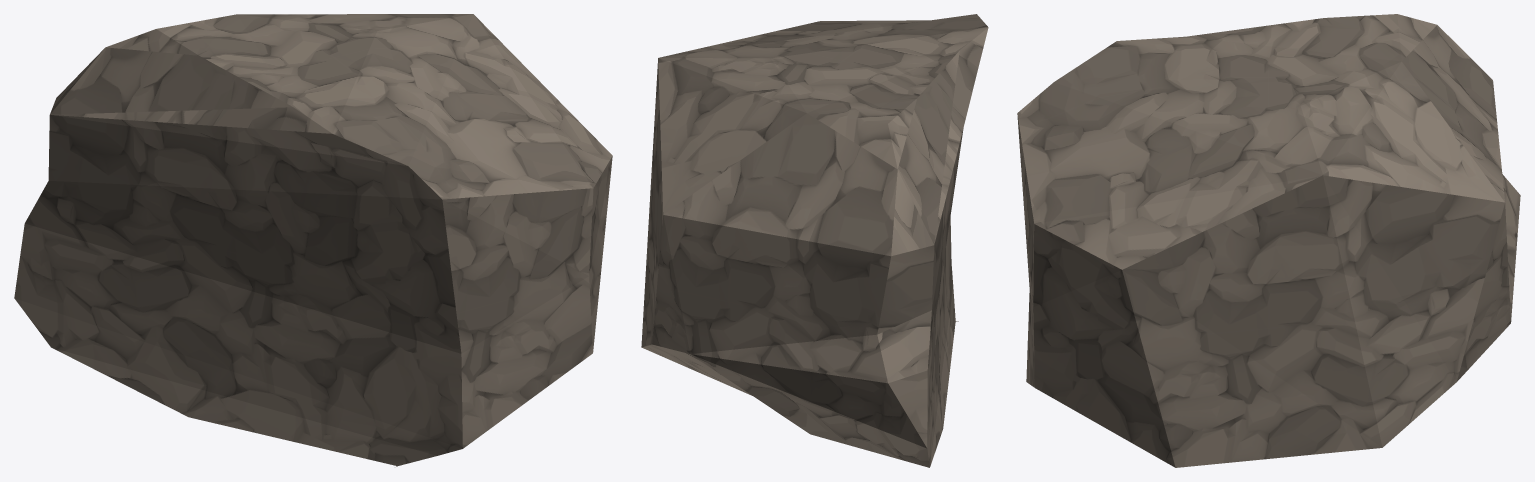
The model's file is synty-rock-01.gltf.
3 renders of one model, left to right at view 1: azimuth 30°, elevation 25°; view 2: azimuth 150°, elevation 25°; view 3: azimuth 270°, elevation 25°, orthographic. The views are drawn at different scales.
Visible parts, largest first — view 1: SM_Rock_01; view 2: SM_Rock_01; view 3: SM_Rock_01.
Part boxes in pixels (x1,y1,x2,y2): SM_Rock_01: [14, 14, 612, 466]; SM_Rock_01: [641, 14, 988, 467]; SM_Rock_01: [1017, 14, 1520, 467].
Bounding box in the file's own units: 0.3265 × 0.2681 × 0.3502.
Materials: 1 (1 with a texture image).
